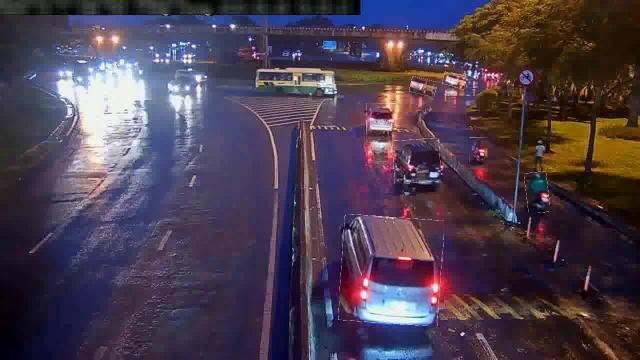Bike: (526, 172, 550, 212), (469, 138, 487, 162)
Car: (340, 216, 442, 324), (394, 139, 441, 183), (366, 104, 396, 136), (410, 78, 436, 96), (442, 72, 466, 88)
